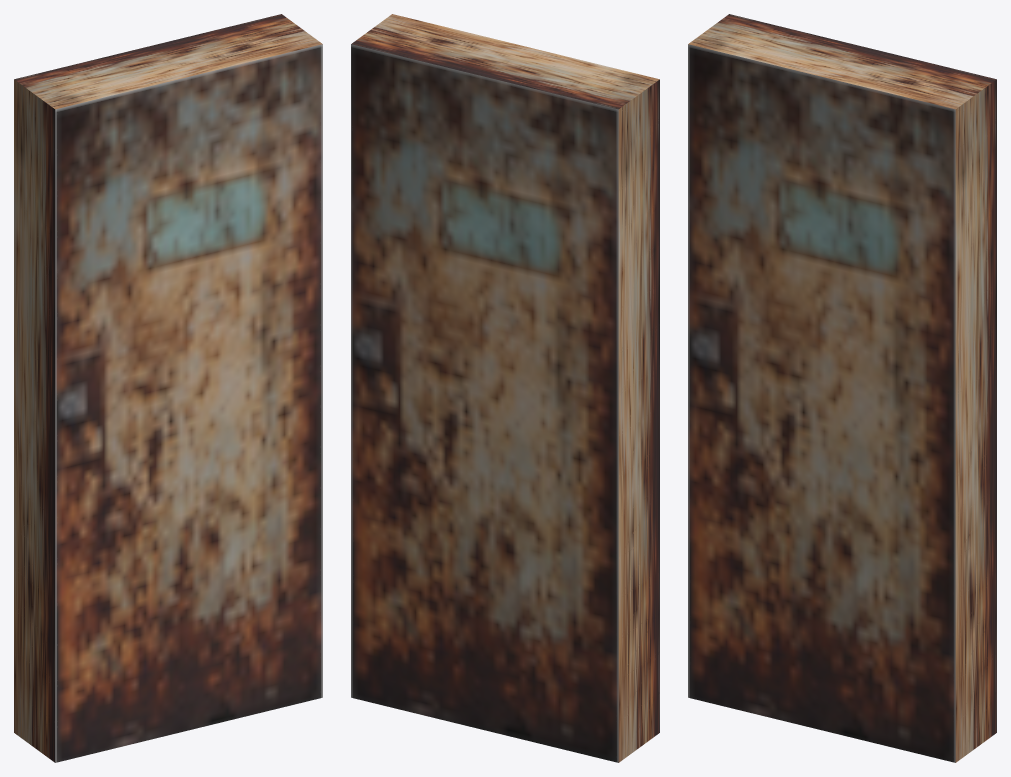
Rendered from RustedDoor.fbx.
3 renders of one model, left to right at view 1: azimuth 30°, elevation 25°; view 2: azimuth 150°, elevation 25°; view 3: azimuth 330°, elevation 25°, orthographic.
Visible parts, largest first — view 1: Cube; view 2: Cube; view 3: Cube.
Boxes of the visible parts, bbox=[...] form: Cube: bbox=[14, 14, 322, 762]; Cube: bbox=[351, 14, 659, 762]; Cube: bbox=[688, 14, 996, 762].
Size of the model in its own units: 180 by 420 by 48.
